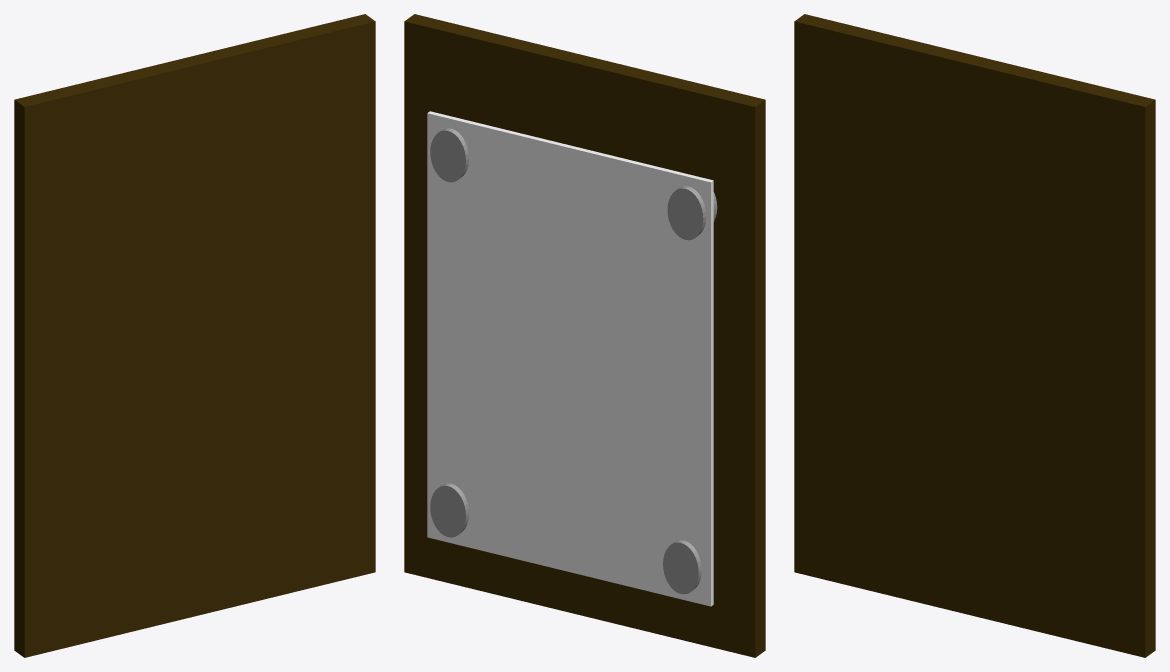
Rendered from placa.fbx.
3 renders of one model, left to right at view 1: azimuth 30°, elevation 25°; view 2: azimuth 150°, elevation 25°; view 3: azimuth 330°, elevation 25°, orthographic.
Visible parts, largest first — view 1: Cubo; view 2: Cubo; view 3: Cubo.
Boxes of the visible parts, x1,y1,x2,y2 form: Cubo: (14,14,375,657); Cubo: (404,14,765,657); Cubo: (794,14,1155,657).
Bounding box in the file's own units: 20 × 30 × 2.43.
